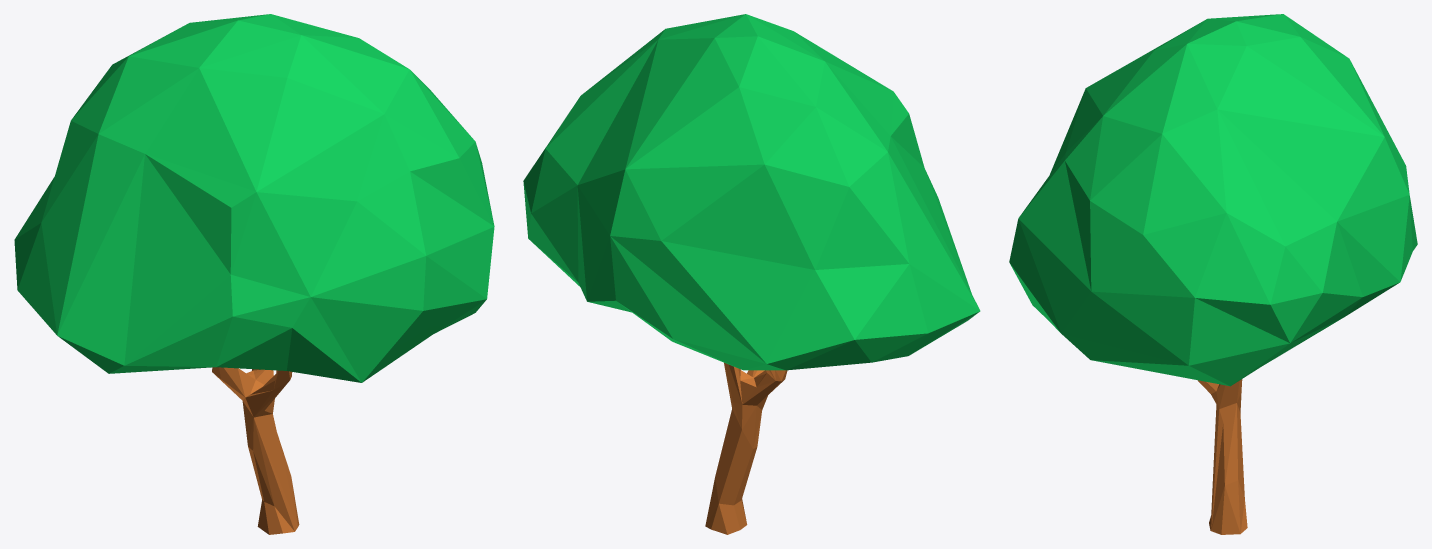
Rendered from Tree.gltf.
3 views of the same model, side by side, from view 1: azimuth 30°, elevation 25°; view 2: azimuth 150°, elevation 25°; view 3: azimuth 270°, elevation 25° (orthographic). The views are drawn at different scales.
Parts seen in each view (by area): view 1: leaves_Icosphere.002, trunk_Cube; view 2: leaves_Icosphere.002, trunk_Cube; view 3: leaves_Icosphere.002, trunk_Cube.
Boxes of the visible parts, x1=… form: leaves_Icosphere.002: x1=14, y1=14, x2=494, y2=382; trunk_Cube: x1=212, y1=367, x2=299, y2=534; leaves_Icosphere.002: x1=523, y1=14, x2=980, y2=370; trunk_Cube: x1=705, y1=362, x2=787, y2=534; leaves_Icosphere.002: x1=1009, y1=14, x2=1417, y2=386; trunk_Cube: x1=1198, y1=379, x2=1247, y2=534.
Bounding box in the file's own units: 1.75 × 2 × 1.51.
